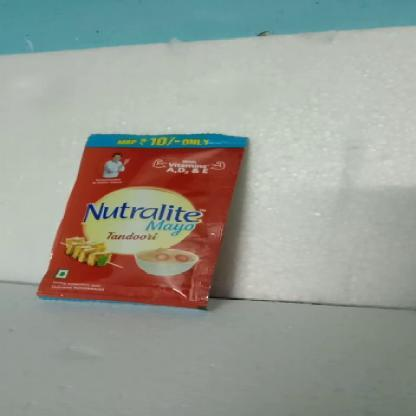Nutralite TANDOORI MAYO 30g: (86, 134, 210, 299)
